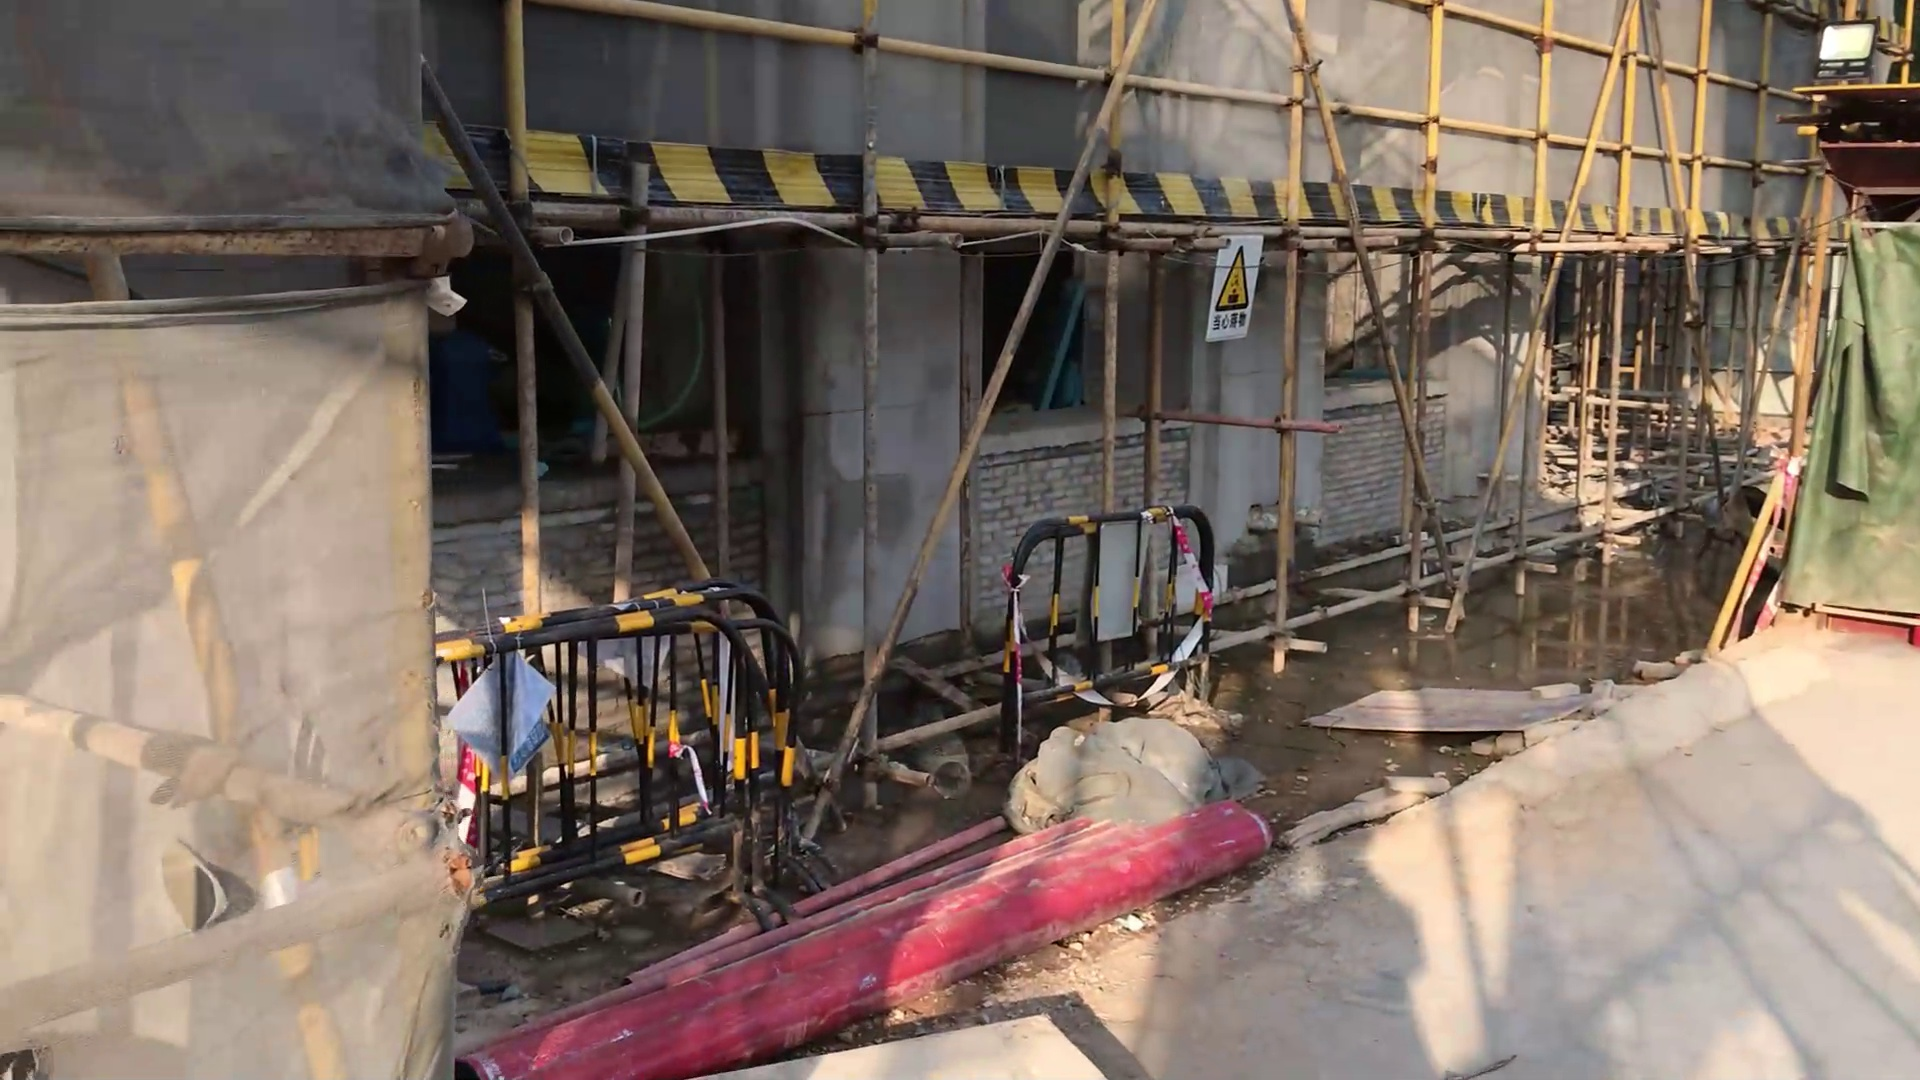fence: (425, 574, 839, 923), (994, 497, 1222, 735)
slogan: (1209, 233, 1261, 340)
